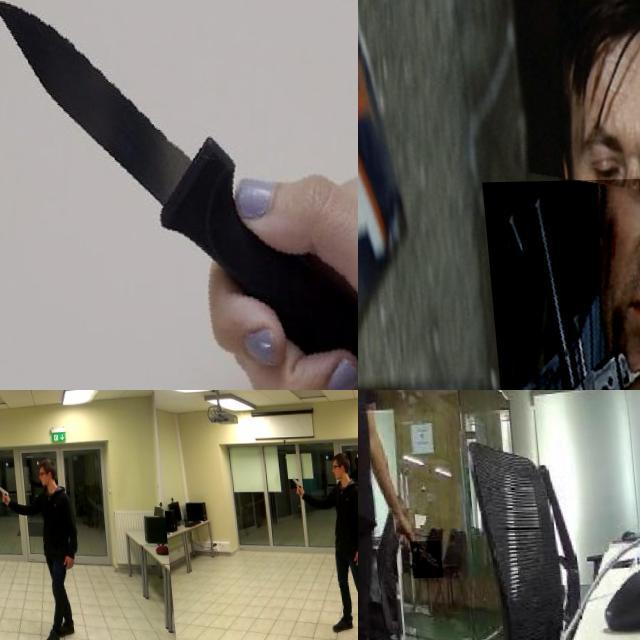-: (0, 0, 358, 390), (400, 542, 433, 580)
gun-knife-thesis - v11 Yolov5 augmented: (477, 178, 640, 390), (282, 475, 294, 497), (259, 390, 281, 400), (0, 480, 8, 502), (0, 390, 10, 400)
